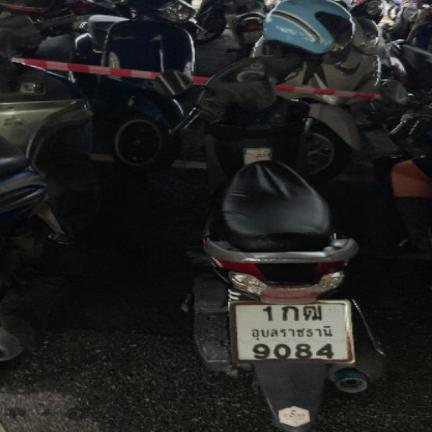0: (272, 342, 294, 360)
1: (259, 305, 275, 323)
4: (315, 343, 339, 359)
8: (293, 343, 313, 359)
9: (252, 343, 273, 359)
A01: (280, 304, 299, 322)
A18: (301, 304, 324, 322)
UBN: (248, 325, 335, 342)
